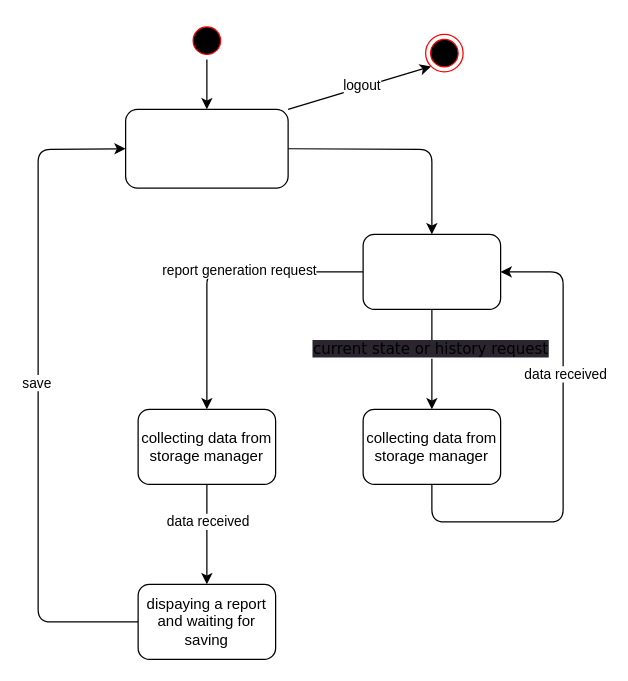
Some shapes in this 628 by 681 pixel diagram are drawn without their labels. Each missing label, with the centre of its shape:
admin panel: (206,148)
displaying latest storage status and waiting for user commands: (431,271)
